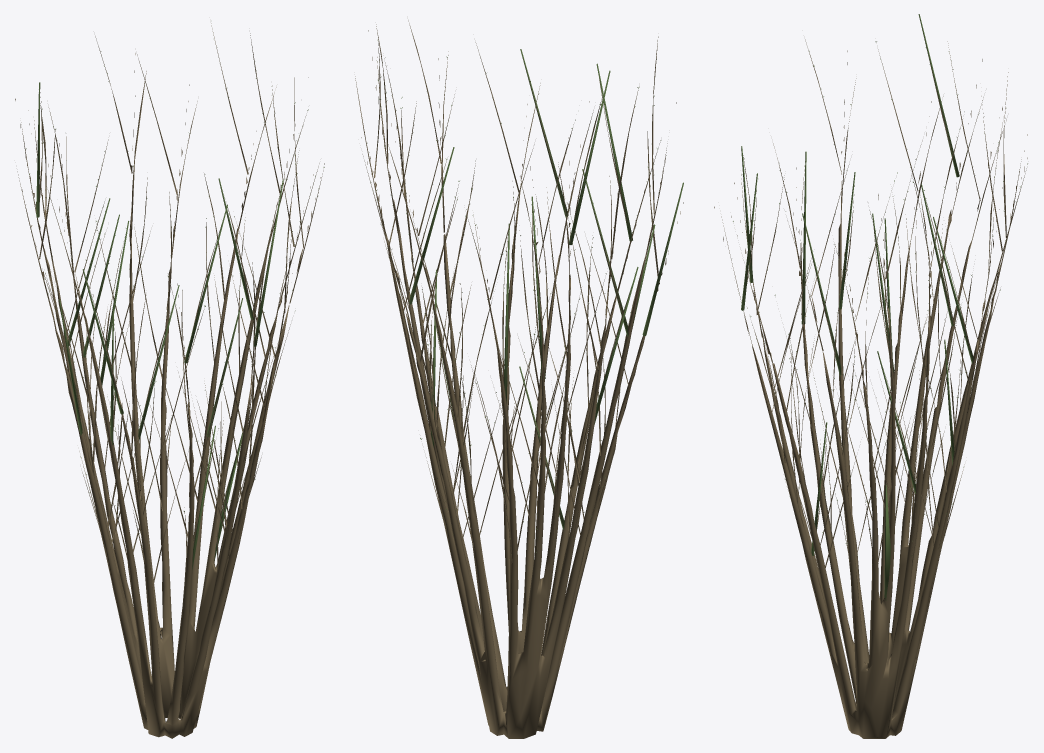
The model's file is BruyereBalais_2_Niveau0.fbx.
The picture shows the model from 3 angles, left to right: view 1: azimuth 30°, elevation 25°; view 2: azimuth 150°, elevation 25°; view 3: azimuth 270°, elevation 25°; orthographic projection. The views are drawn at different scales.
Parts seen in each view (by area): view 1: BruyereBalais_2_Niveau0; view 2: BruyereBalais_2_Niveau0; view 3: BruyereBalais_2_Niveau0.
Part boxes in pixels (bbox=[...]): BruyereBalais_2_Niveau0: bbox=[15, 23, 324, 738]; BruyereBalais_2_Niveau0: bbox=[355, 20, 683, 738]; BruyereBalais_2_Niveau0: bbox=[714, 14, 1027, 738].
Size of the model in its own units: 73.53 by 169 by 72.68.
